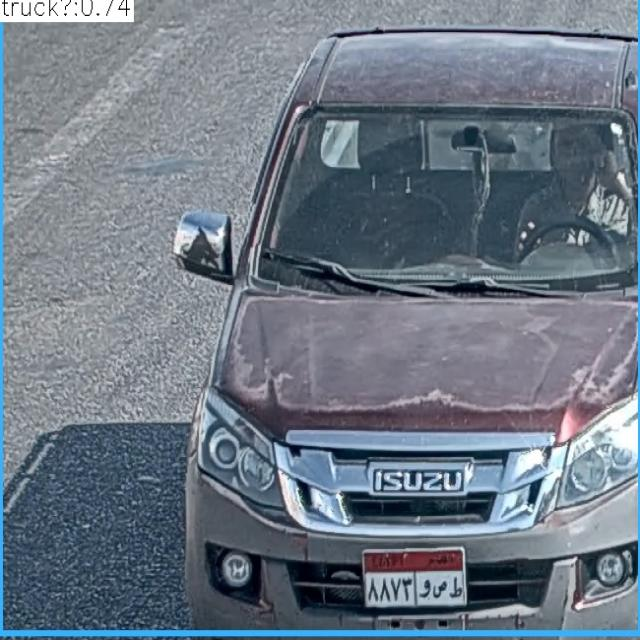windshield: (251, 107, 638, 296)
